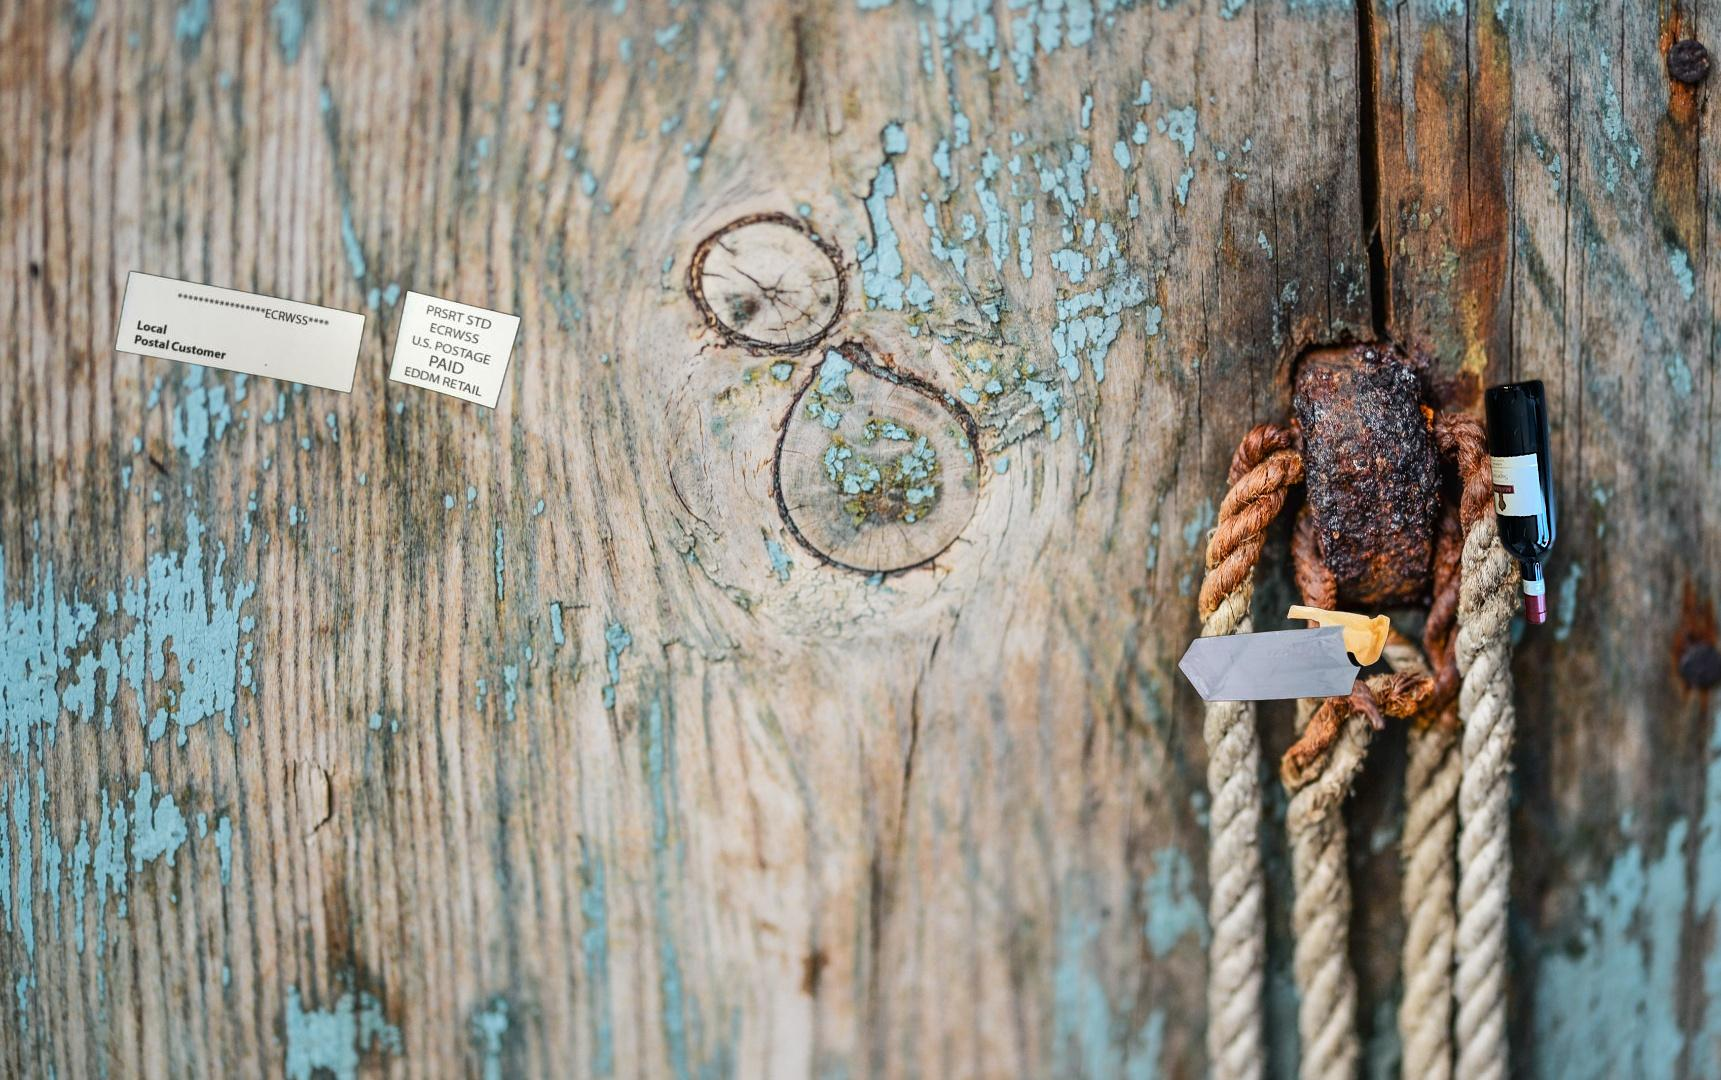clothes: (1706, 1017, 1721, 1080)
glass: (1481, 373, 1562, 632)
paper: (110, 269, 525, 412)
plastic-bag: (1175, 602, 1392, 704)
plastic-bottles: (480, 678, 743, 1080)
